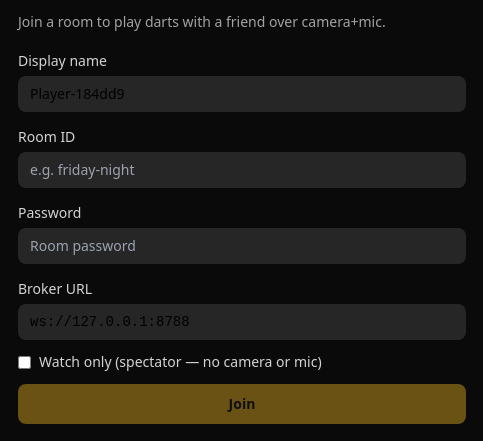
Test case: Multiplayer join form › Join button is enabled when room + password are filled
The width and height of the screenshot is (483, 441).
In the field labelled "Room ID": (242, 170) top-left (18, 152), bottom-right (466, 188), type "r1"
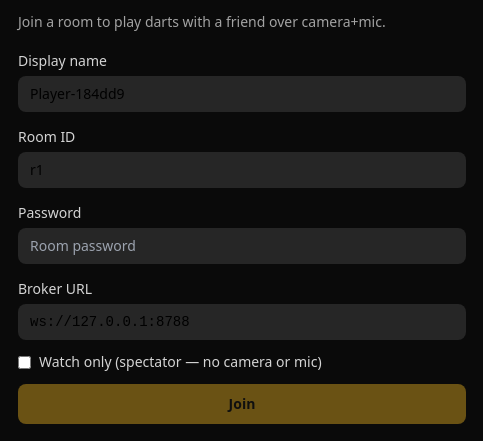
In the password field labelled "Password": (242, 246) top-left (18, 228), bottom-right (466, 264), type "pw"
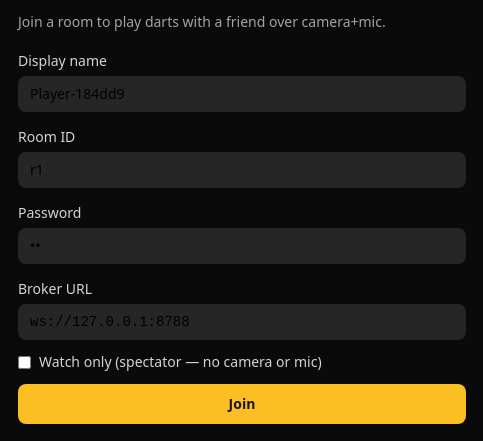
Check: the button "Join" is enabled, box top-left (18, 384), bottom-right (466, 424)
